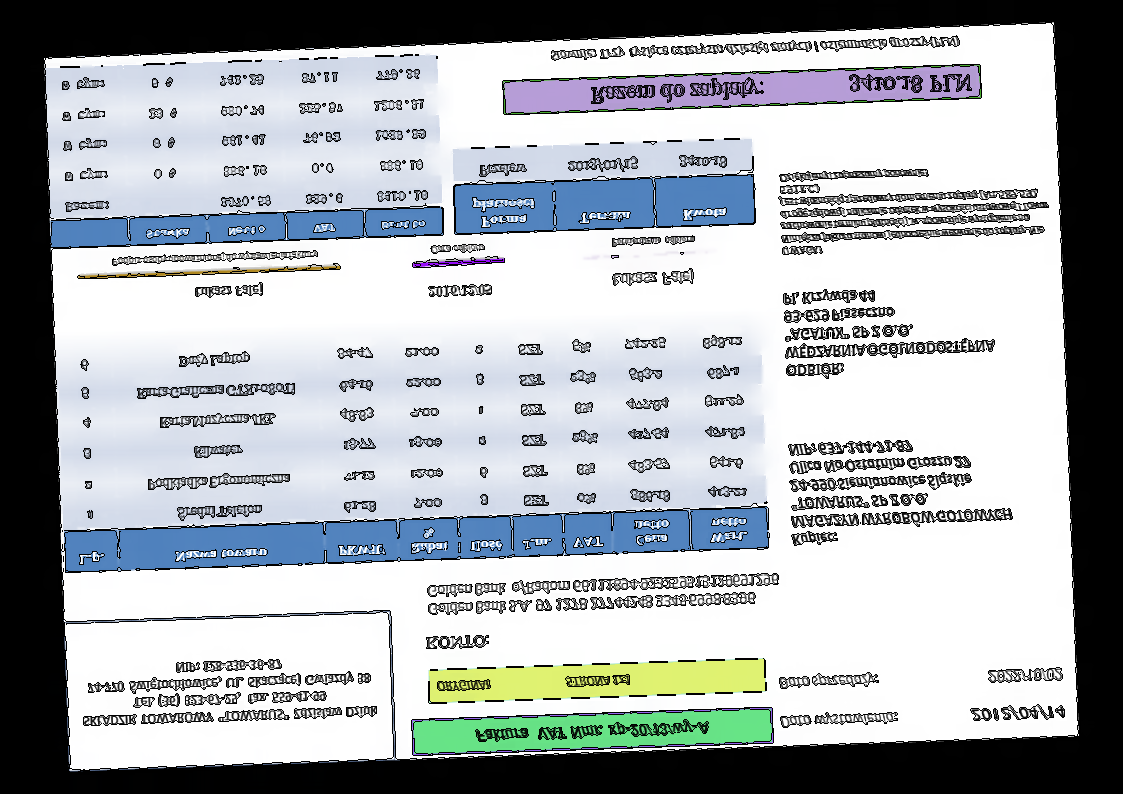Table: (56, 322, 770, 574), (45, 55, 444, 248), (451, 137, 758, 237)
TextBox: (777, 163, 1052, 257), (787, 435, 1015, 548), (80, 653, 380, 730), (782, 283, 996, 381), (425, 571, 784, 618), (589, 70, 974, 106), (549, 34, 963, 63), (472, 717, 711, 746), (109, 247, 319, 269), (434, 673, 632, 694), (779, 709, 900, 732), (778, 670, 882, 692), (968, 704, 1067, 725), (610, 266, 694, 288), (987, 666, 1065, 685), (192, 281, 265, 300), (426, 281, 493, 301), (425, 634, 491, 652), (610, 235, 695, 248), (429, 241, 486, 257)
